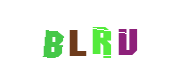B: (35, 0, 115, 80)
L: (37, 0, 117, 80)
R: (49, 0, 129, 80)
V: (87, 0, 167, 80)
